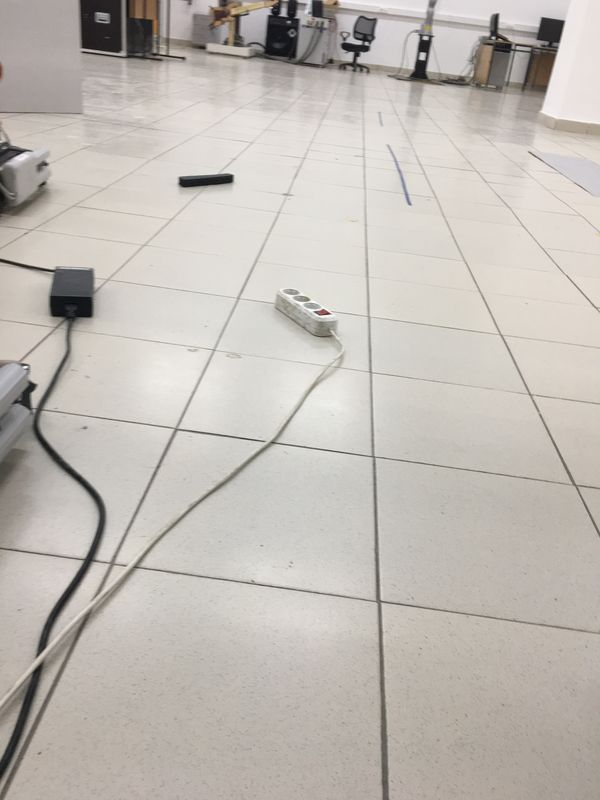socket: (270, 282, 343, 344)
